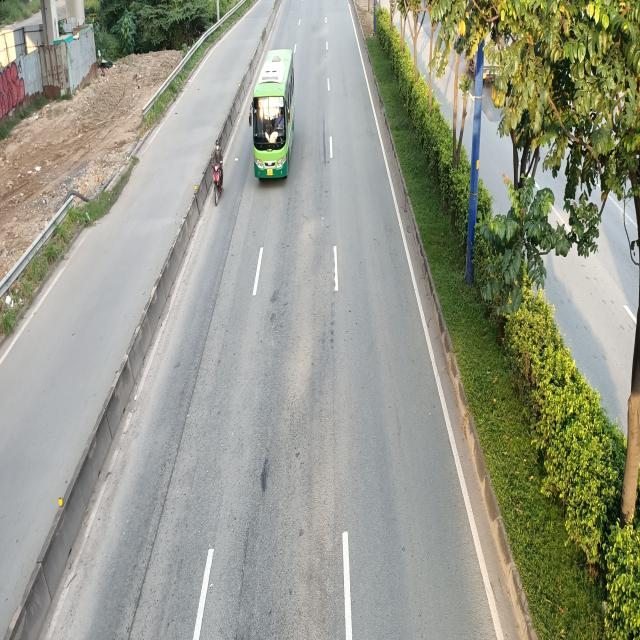coach: (249, 50, 297, 184)
